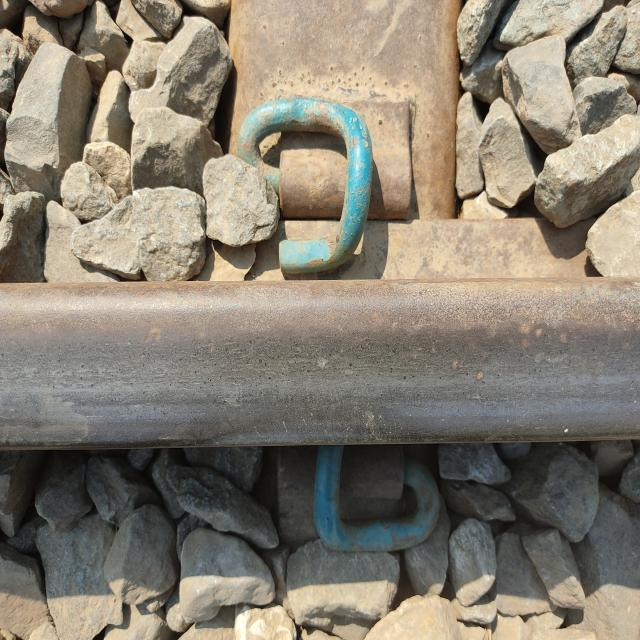No Fault: (264, 90, 414, 271), (272, 456, 440, 559)
